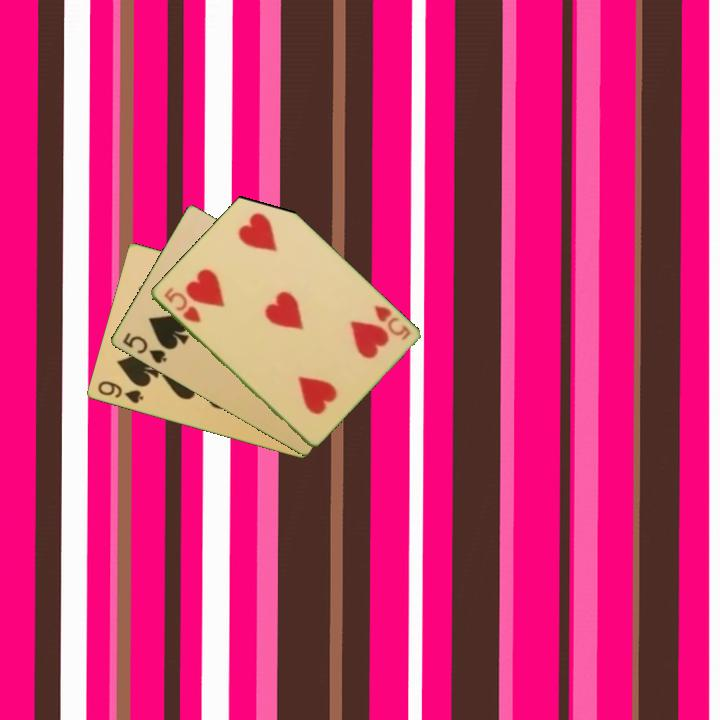5h: (370, 301, 413, 344), (160, 283, 203, 325)
5s: (119, 329, 169, 367)
9s: (94, 377, 146, 407)
